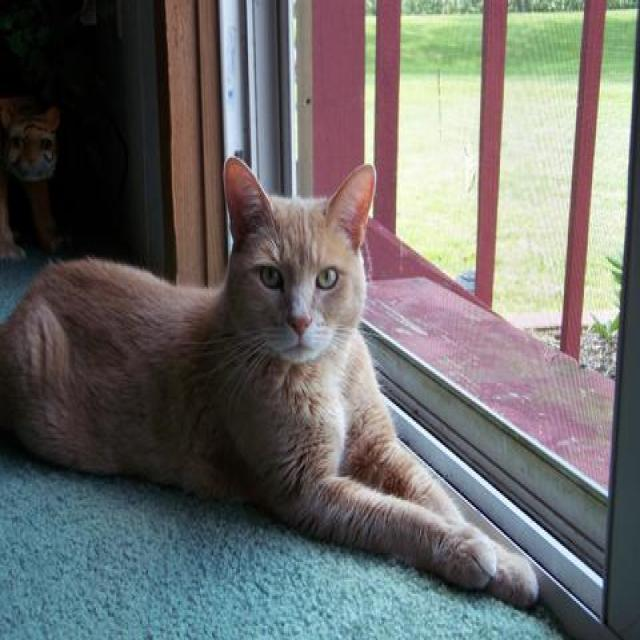left eye: (313, 262, 340, 291)
